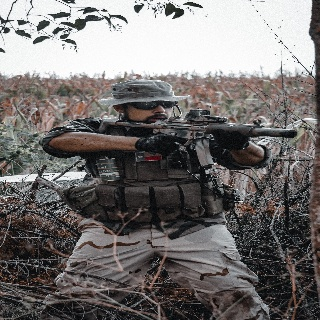rifle: (97, 108, 298, 142)
